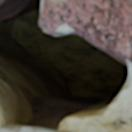brick: (0, 127, 52, 131)
broken_brick: (41, 0, 131, 64)
crack: (0, 0, 130, 131)
